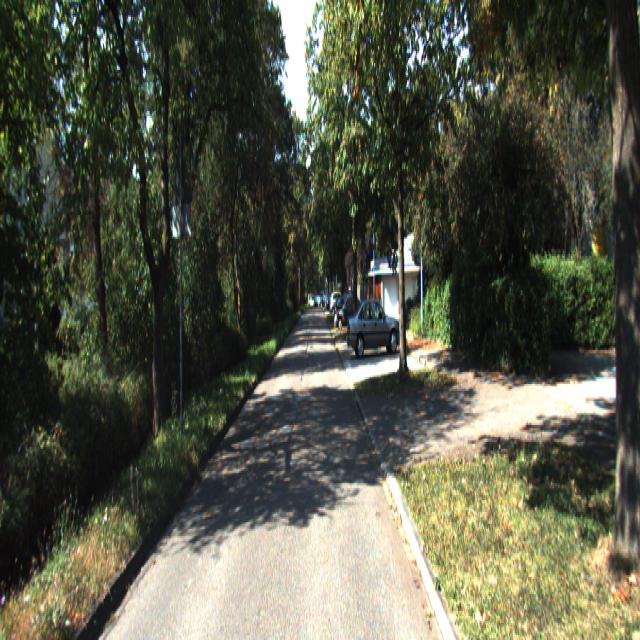Car: (347, 294, 403, 356), (334, 294, 363, 330)
